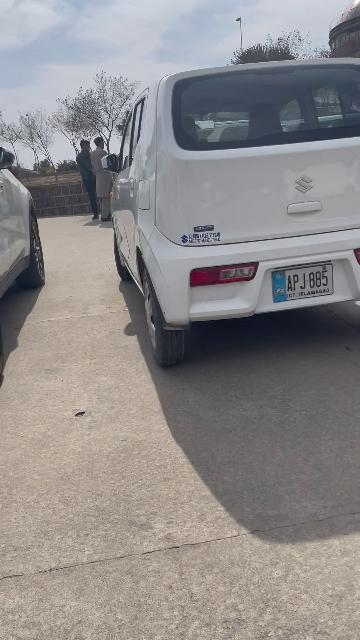plate: (273, 262, 335, 302)
